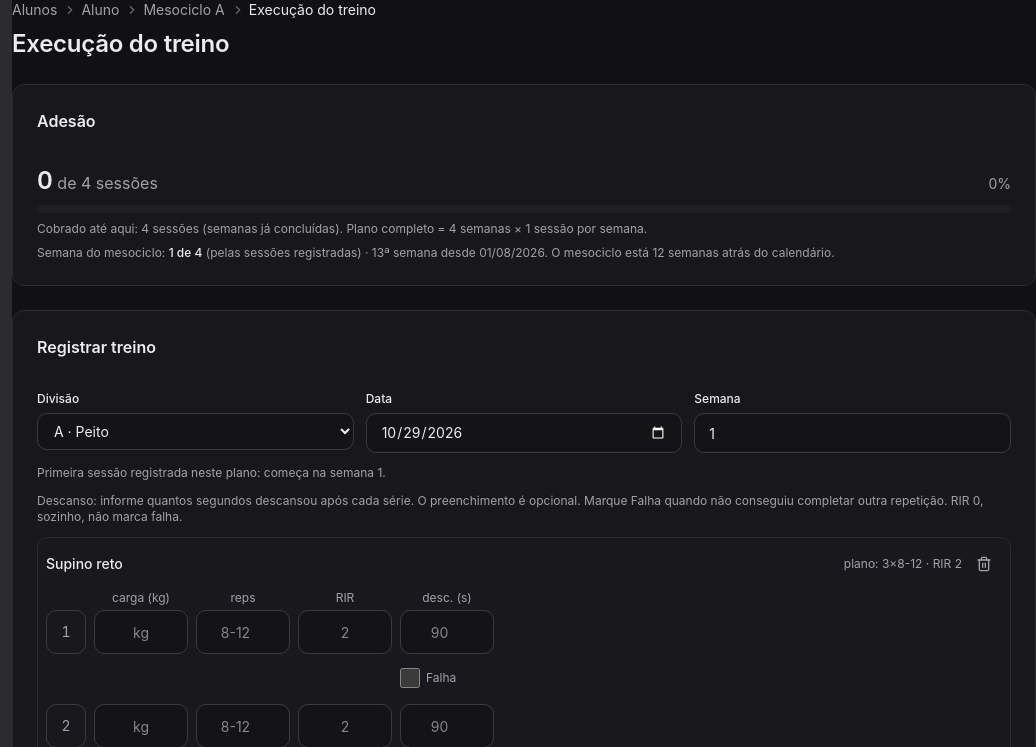
Test case: Execucao — descanso realizado › avisa quando o descanso foi registrado sem carga nem repetições
Step 1. Type "60" into the number field named "Descanso da série 1 de Supino reto" → [447, 632], box [400, 610, 494, 654]
(page scrolled)
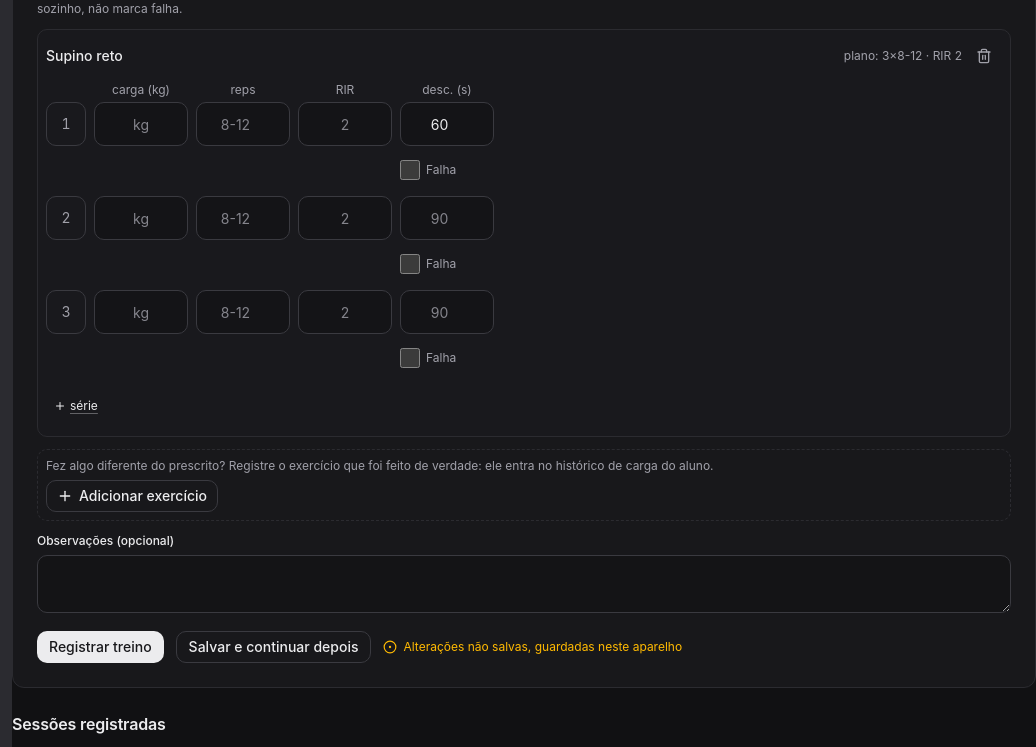
Step 2. Click the button "Registrar treino" → [100, 647], box [37, 631, 164, 663]
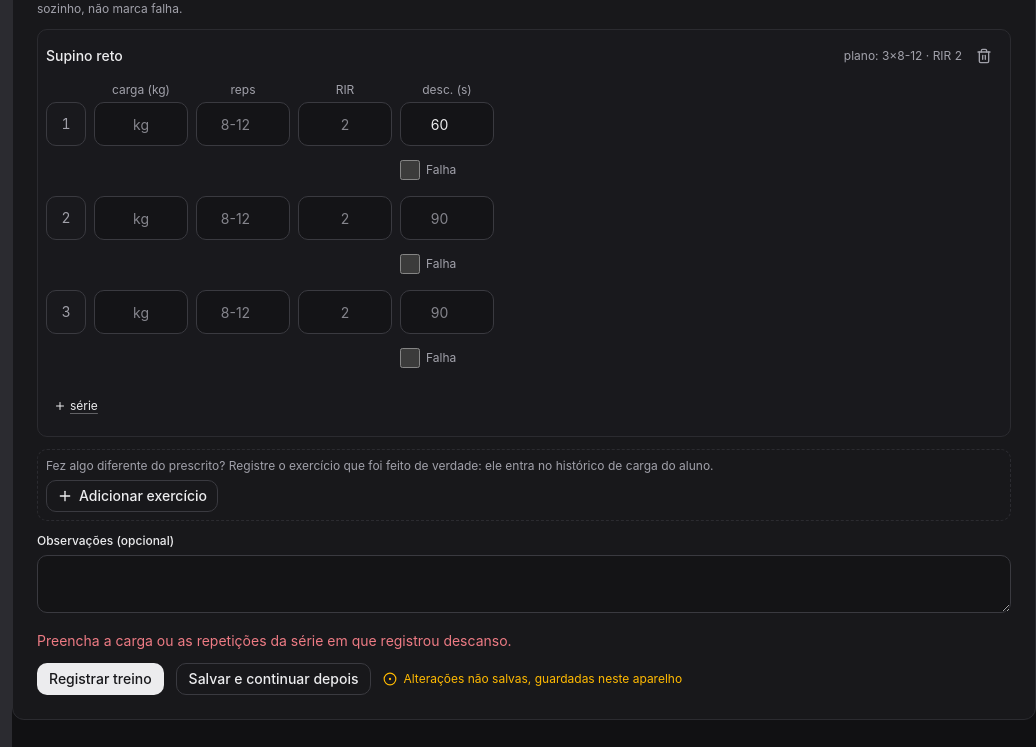
Expected: the message reads "Preencha a carga ou as repetições da série em que registrou descanso.", [37, 632, 512, 649]
